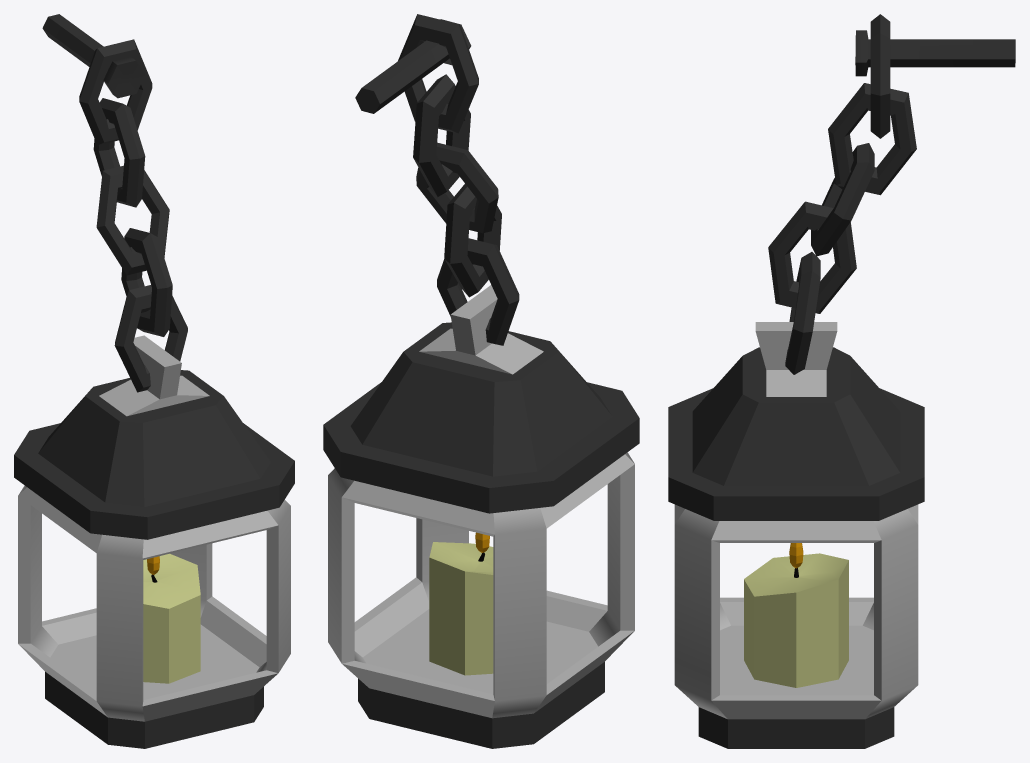
File: Lantern.fbx
3 views of the same model, side by side, from view 1: azimuth 30°, elevation 25°; view 2: azimuth 150°, elevation 25°; view 3: azimuth 270°, elevation 25° (orthographic). The views are drawn at different scales.
Visible parts, largest first — view 1: polySurface2; view 2: polySurface2; view 3: polySurface2.
Boxes of the visible parts, <box> form: polySurface2: <box>14,14,294,748</box>; polySurface2: <box>323,14,639,748</box>; polySurface2: <box>668,14,1015,748</box>.
Bounding box in the file's own units: 1.05 × 3.1 × 1.43.
